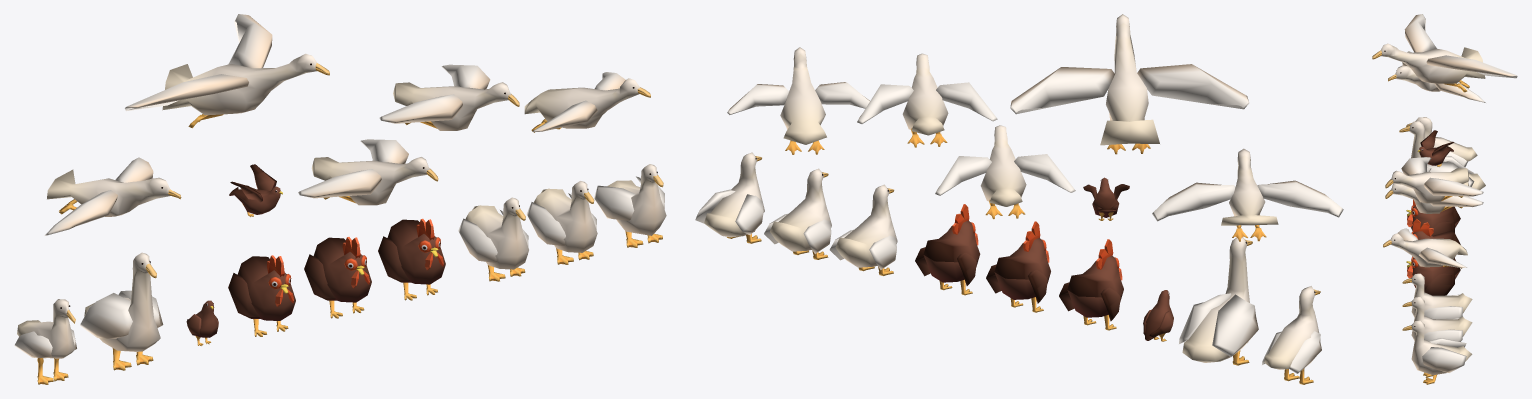
The model's file is common_birds.fbx.
3 renders of one model, left to right at view 1: azimuth 30°, elevation 25°; view 2: azimuth 150°, elevation 25°; view 3: azimuth 270°, elevation 25°, orthographic. The views are drawn at different scales.
Visible parts, largest first — view 1: Goose.Fly, Goose, Duck.Fly, DuckBr.Fly, Seagull.Fly, Duck, DuckBr, Mallard.Fly, ChickenGld, Chicken, ChickenBr, Mallard (+3 smaller); view 2: Goose.Fly, Seagull.Fly, Goose, Mallard.Fly, DuckBr.Fly, Duck.Fly, Mallard, Chicken, ChickenBr, ChickenGld, DuckBr, Duck (+3 smaller); view 3: Goose.Fly, DuckBr.Fly, Mallard, Mallard.Fly, Duck, DuckBr, ChickenGld, Goose, Duck.Fly, ChickenBr, Seagull.Fly, Seagull (+2 smaller).
Part boxes in pixels (<box>): Goose.Fly: <box>125,14,329,128</box>; Goose: <box>80,252,163,370</box>; Duck.Fly: <box>298,139,438,205</box>; DuckBr.Fly: <box>379,64,519,130</box>; Seagull.Fly: <box>44,157,181,235</box>; Duck: <box>458,197,528,281</box>; DuckBr: <box>526,181,597,264</box>; Mallard.Fly: <box>524,72,650,132</box>; ChickenGld: <box>378,218,445,300</box>; Chicken: <box>304,237,371,318</box>; ChickenBr: <box>228,255,295,336</box>; Mallard: <box>594,164,666,247</box>; Goose.Fly: <box>1010,14,1249,154</box>; Seagull.Fly: <box>1152,148,1343,241</box>; Goose: <box>1179,237,1258,365</box>; Mallard.Fly: <box>727,47,869,154</box>; DuckBr.Fly: <box>857,53,997,147</box>; Duck.Fly: <box>935,125,1075,219</box>; Mallard: <box>695,152,764,243</box>; Chicken: <box>986,221,1050,312</box>; ChickenBr: <box>1059,239,1123,330</box>; ChickenGld: <box>915,204,980,295</box>; DuckBr: <box>764,168,831,259</box>; Duck: <box>829,184,897,275</box>; Goose.Fly: <box>1372,14,1517,92</box>; DuckBr.Fly: <box>1385,157,1483,203</box>; Mallard: <box>1402,320,1472,384</box>; Mallard.Fly: <box>1383,228,1467,268</box>; Duck: <box>1402,273,1472,319</box>; DuckBr: <box>1402,297,1472,341</box>; ChickenGld: <box>1406,257,1460,295</box>; Goose: <box>1399,121,1485,189</box>; Duck.Fly: <box>1385,167,1483,213</box>; ChickenBr: <box>1406,199,1460,235</box>; Seagull.Fly: <box>1388,51,1485,102</box>; Seagull: <box>1406,117,1477,167</box>.
Bounding box in the file's own units: 480 × 216 × 136.
